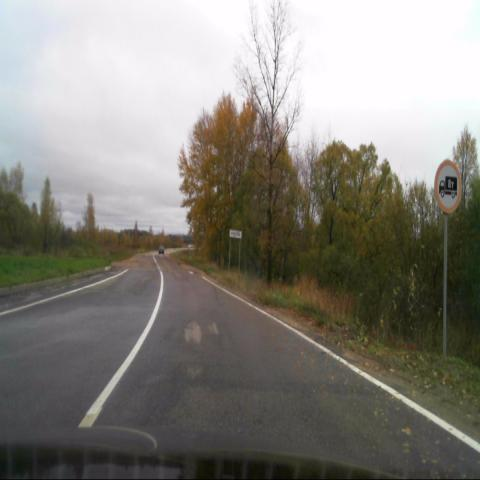3_4: (434, 158, 462, 214)
